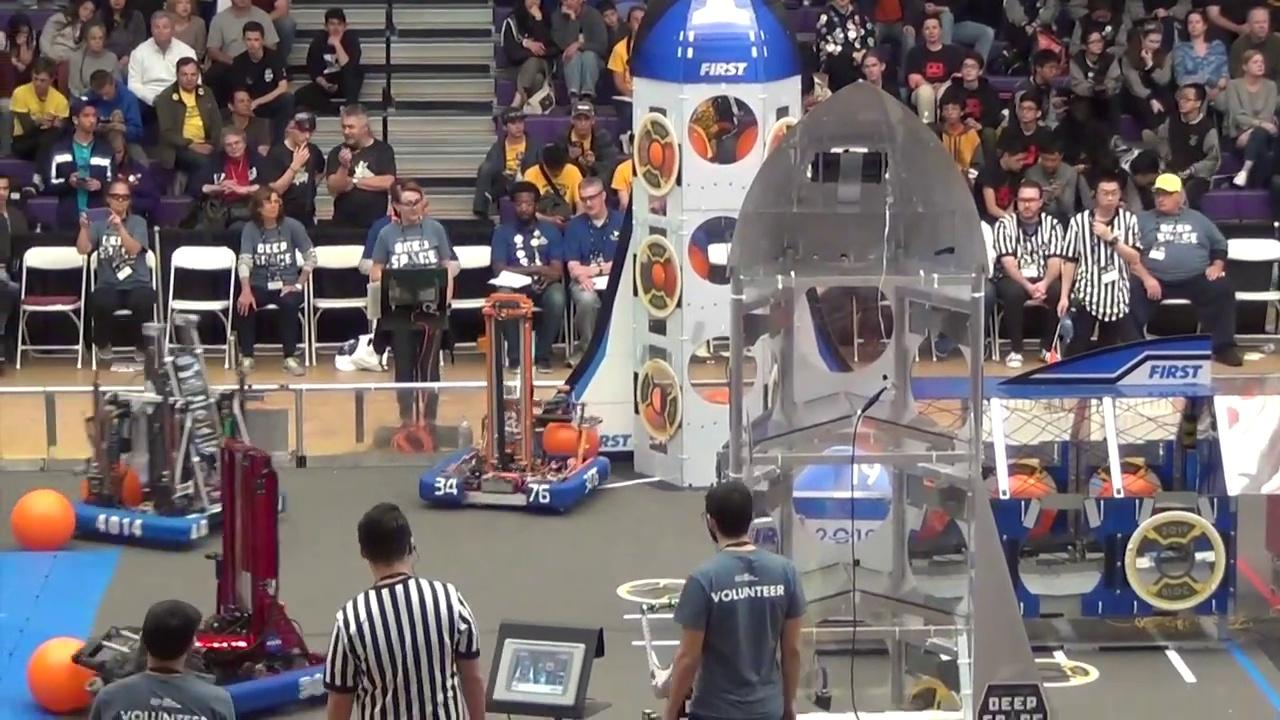robot: (132, 429, 334, 715), (61, 317, 289, 553), (417, 273, 616, 521)
